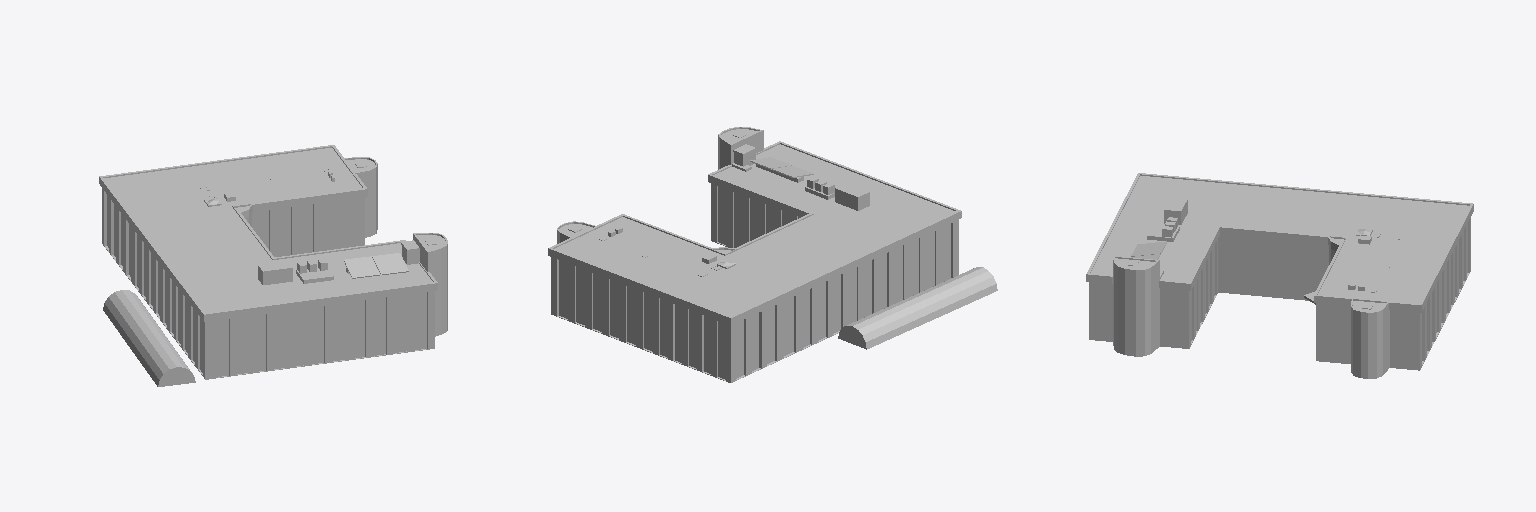
File: christchurchhouse_model_published.obj
3 views of the same model, side by side, from view 1: azimuth 30°, elevation 25°; view 2: azimuth 150°, elevation 25°; view 3: azimuth 270°, elevation 25° (orthographic).
Visible parts, largest first — view 1: Cube, Cube.002, Cylinder, Cube.013, Cube.007, Cube.006; view 2: Cube, Cube.002, Cylinder, Cube.013; view 3: Cube, Cube.002.
Boxes of the visible parts, x1=… form: Cube: x1=102, y1=146, x2=447, y2=379; Cube.002: x1=99, y1=145, x2=437, y2=321; Cylinder: x1=103, y1=290, x2=195, y2=386; Cube.013: x1=258, y1=261, x2=292, y2=284; Cube.007: x1=344, y1=256, x2=379, y2=278; Cube.006: x1=372, y1=253, x2=408, y2=274; Cube: x1=551, y1=127, x2=958, y2=382; Cube.002: x1=548, y1=141, x2=961, y2=325; Cylinder: x1=838, y1=267, x2=997, y2=349; Cube.013: x1=835, y1=183, x2=869, y2=210; Cube: x1=1089, y1=174, x2=1470, y2=378; Cube.002: x1=1086, y1=173, x2=1473, y2=312.
Bounding box in the file's own units: 83.13 × 20.93 × 85.19.